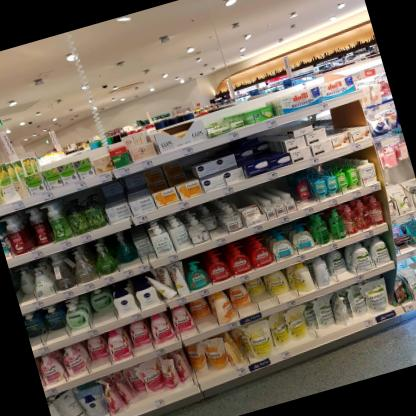empty_space: (287, 172, 306, 210)
